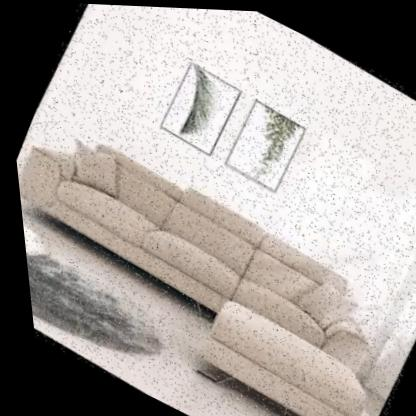Sofa: (7, 86, 416, 416)
